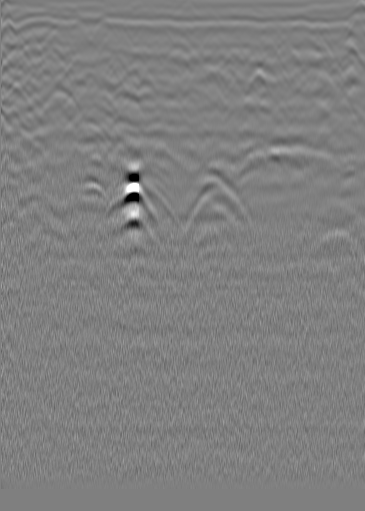가스: (112, 166, 147, 221)
상수: (294, 25, 326, 69)
오수: (40, 30, 60, 50)
우수: (184, 28, 204, 48)
